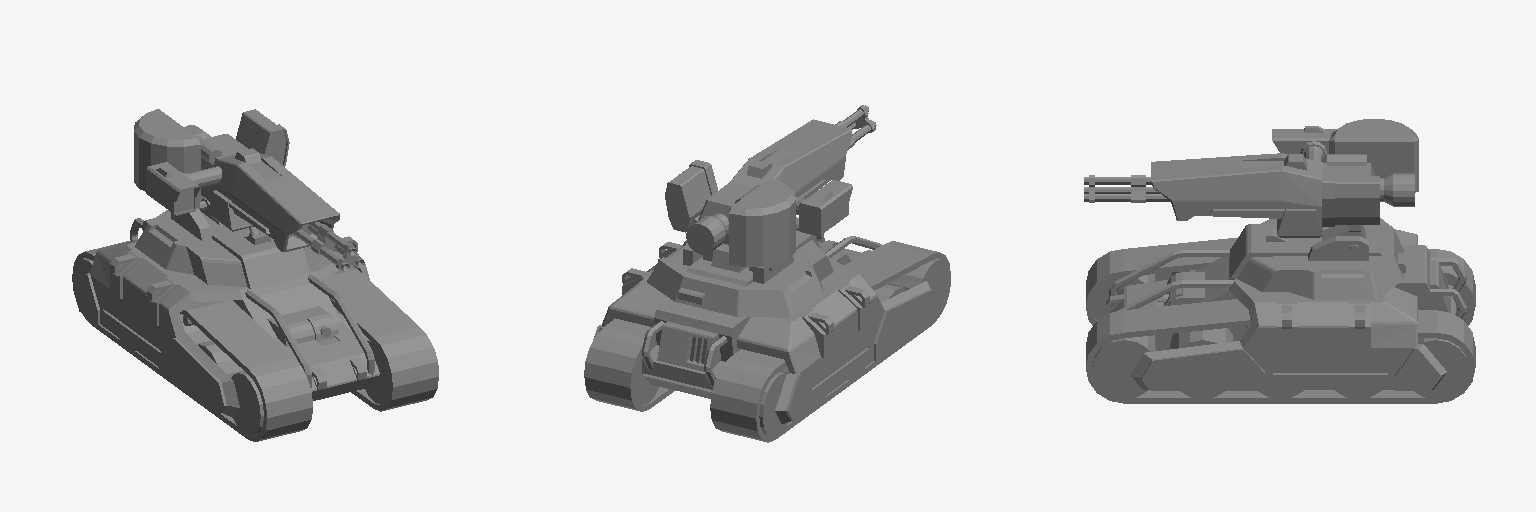
File: RCDroneAssault.obj
The picture shows the model from 3 angles: view 1: azimuth 30°, elevation 25°; view 2: azimuth 150°, elevation 25°; view 3: azimuth 270°, elevation 25°; orthographic projection.
Parts seen in each view (by area): view 1: SK_VHW_DEP_RCDroneAssault; view 2: SK_VHW_DEP_RCDroneAssault; view 3: SK_VHW_DEP_RCDroneAssault.
Boxes of the visible parts, x1,y1,x2,y2 form: SK_VHW_DEP_RCDroneAssault: [72, 109, 438, 441]; SK_VHW_DEP_RCDroneAssault: [584, 105, 950, 442]; SK_VHW_DEP_RCDroneAssault: [1084, 119, 1475, 403].
Bounding box in the file's own units: 41.47 × 40.58 × 67.97.